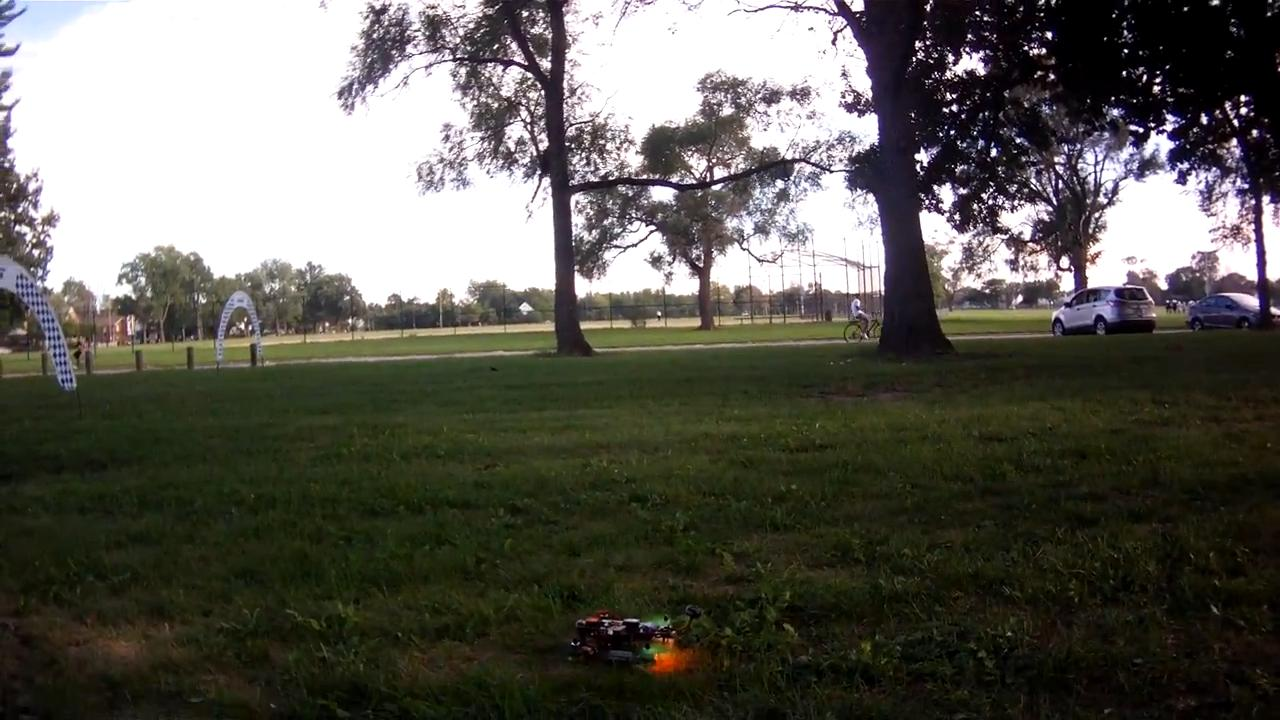gate: (211, 288, 266, 370)
